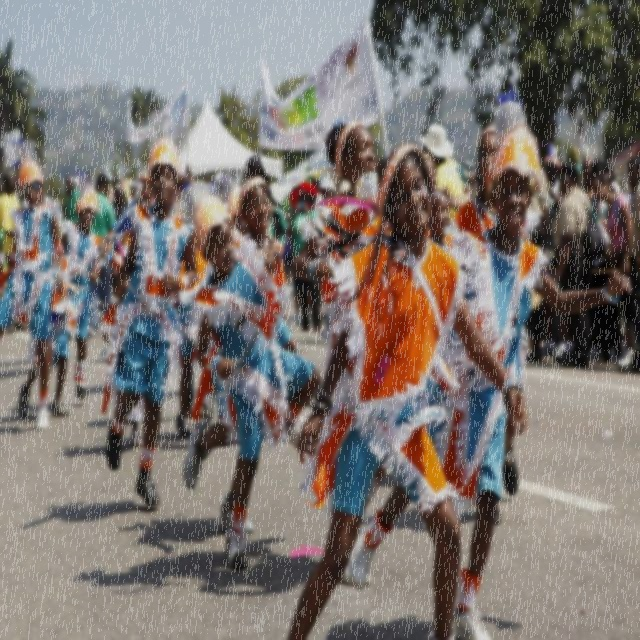pessoa: (344, 86, 634, 639), (280, 135, 532, 639), (288, 115, 381, 590), (179, 166, 290, 540), (102, 110, 202, 512), (182, 174, 274, 536), (0, 132, 67, 432), (568, 159, 638, 368), (548, 157, 606, 370), (55, 166, 102, 400), (16, 208, 64, 424), (592, 162, 638, 368), (98, 264, 146, 450), (518, 122, 554, 354), (448, 123, 500, 235), (417, 122, 465, 225), (88, 172, 118, 336), (428, 186, 469, 304), (106, 168, 159, 238), (286, 190, 320, 266), (0, 166, 24, 268), (526, 308, 558, 366), (314, 176, 349, 212), (62, 172, 84, 225), (541, 152, 558, 212), (626, 154, 640, 226), (110, 174, 132, 217), (412, 146, 440, 178)
